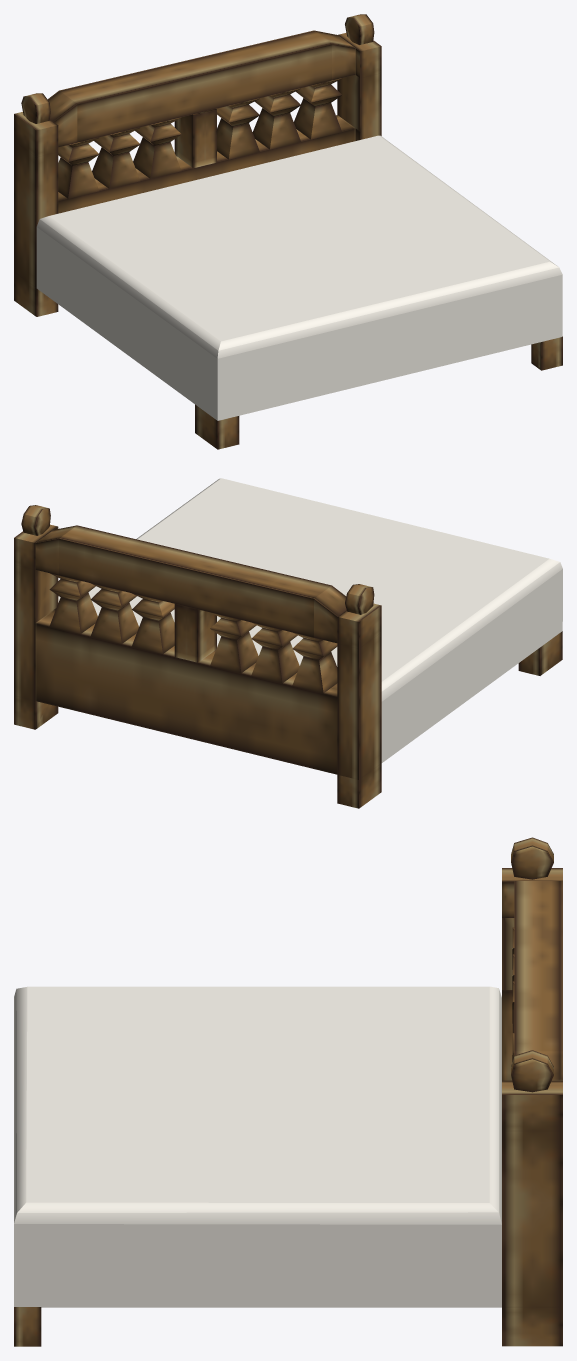
The model's file is Inside_Poly_Bed_03_Without_Blanket.obj.
3 views of the same model, one above another, from view 1: azimuth 30°, elevation 25°; view 2: azimuth 150°, elevation 25°; view 3: azimuth 270°, elevation 25° (orthographic). The views are drawn at different scales.
Visible parts, largest first — view 1: Cube.001, Cube.002, Cube.005, Cube.004; view 2: Cube.002, Cube.001, Cube.005; view 3: Cube.001, Cube.002, Cube.004.
Part boxes in pixels (x1=…): Cube.001: x1=36, y1=135, x2=562, y2=420; Cube.002: x1=14, y1=14, x2=381, y2=449; Cube.005: x1=58, y1=78, x2=341, y2=198; Cube.004: x1=531, y1=336, x2=562, y2=370; Cube.002: x1=14, y1=505, x2=562, y2=808; Cube.001: x1=58, y1=478, x2=562, y2=762; Cube.005: x1=49, y1=573, x2=337, y2=693; Cube.001: x1=14, y1=986, x2=501, y2=1307; Cube.002: x1=502, y1=837, x2=562, y2=1346; Cube.004: x1=14, y1=1307, x2=41, y2=1346.
Size of the model in its own units: 1.76 by 1.03 by 1.8.
1 material, 1 textured.
